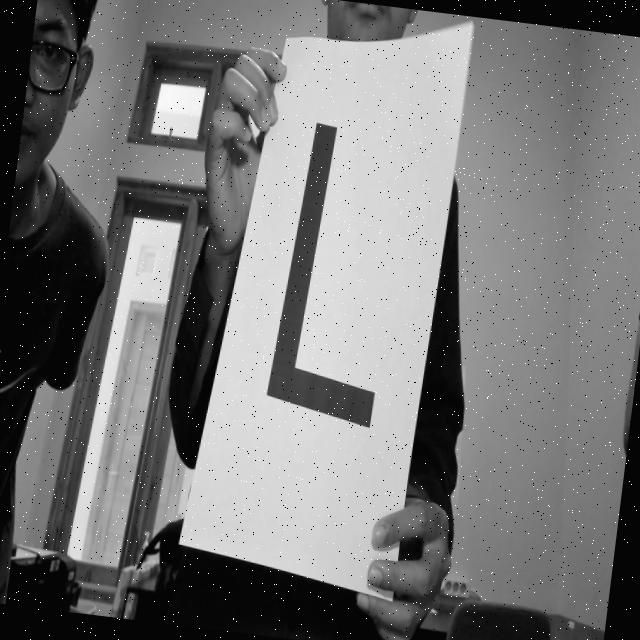l: (251, 95, 424, 472)
